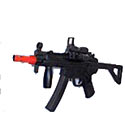rifle: (8, 30, 121, 120)
